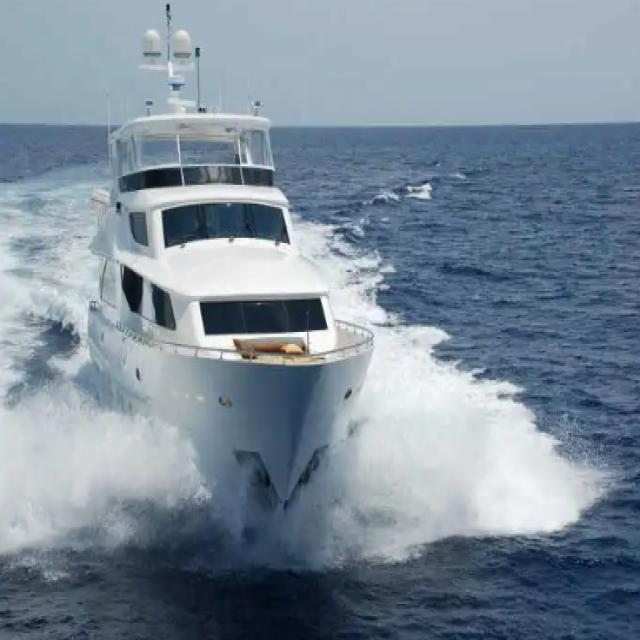houseboat: (75, 5, 388, 565)
